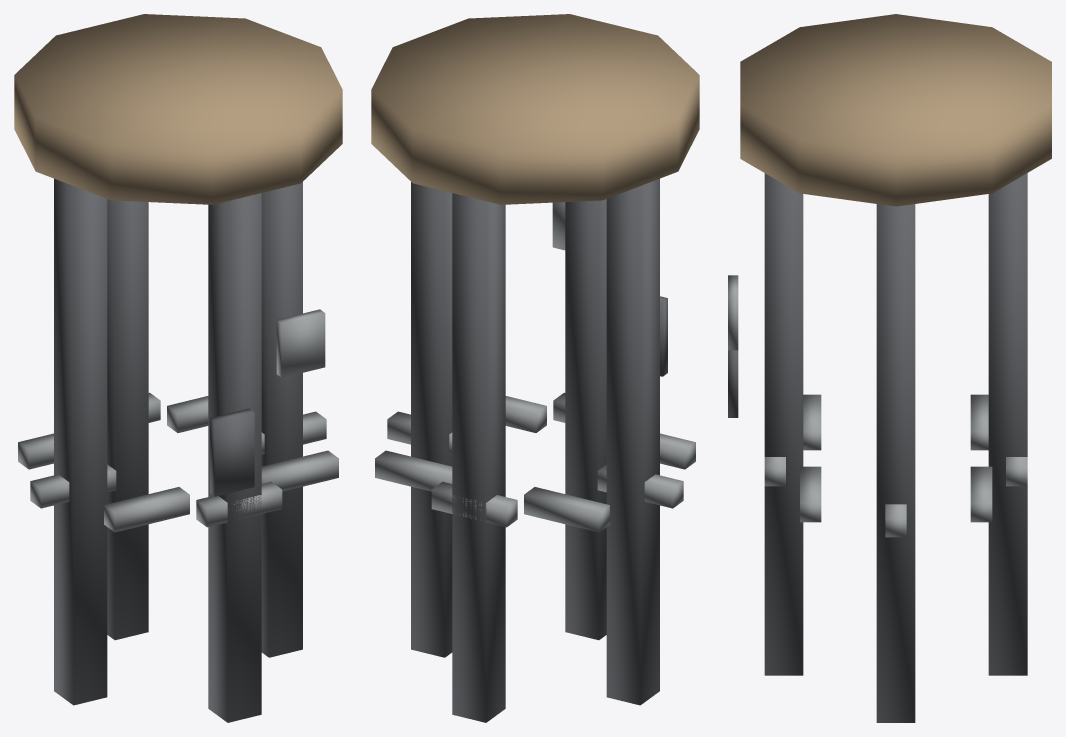
Rendered from medical_rolling_stool__weathered.glb.
3 views of the same model, side by side, from view 1: azimuth 30°, elevation 25°; view 2: azimuth 150°, elevation 25°; view 3: azimuth 270°, elevation 25° (orthographic).
Visible parts, largest first — view 1: world; view 2: world; view 3: world.
Part boxes in pixels (x1,y1,x2,y2): world: (14, 14, 342, 722); world: (371, 14, 699, 722); world: (728, 14, 1051, 722).
Size of the model in its own units: 0.38 by 0.7474 by 0.3754.
